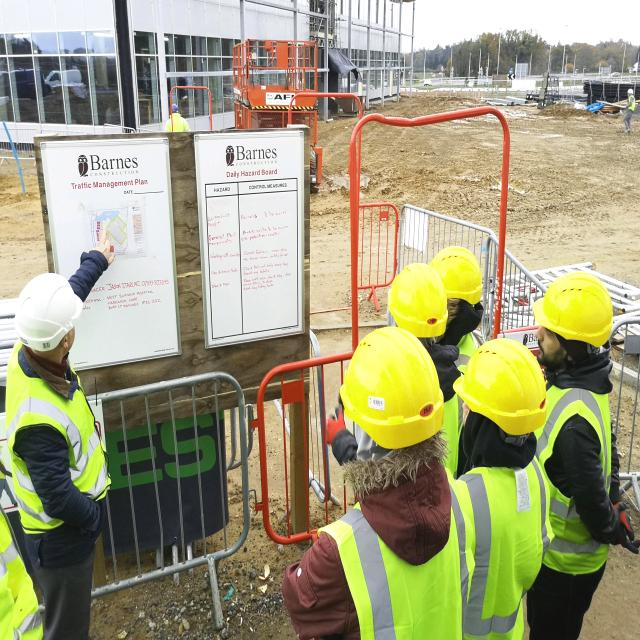head_helmet: (339, 325, 446, 451), (452, 338, 548, 436), (532, 270, 613, 348), (14, 271, 85, 351), (388, 261, 448, 338), (429, 244, 484, 302), (171, 103, 178, 111), (626, 88, 634, 94)
person: (290, 326, 471, 640), (4, 230, 116, 640), (532, 276, 628, 640), (451, 338, 548, 640), (165, 103, 192, 133), (624, 87, 636, 135)
vest: (333, 467, 461, 639), (5, 341, 112, 534), (460, 451, 554, 640), (541, 375, 611, 569)
